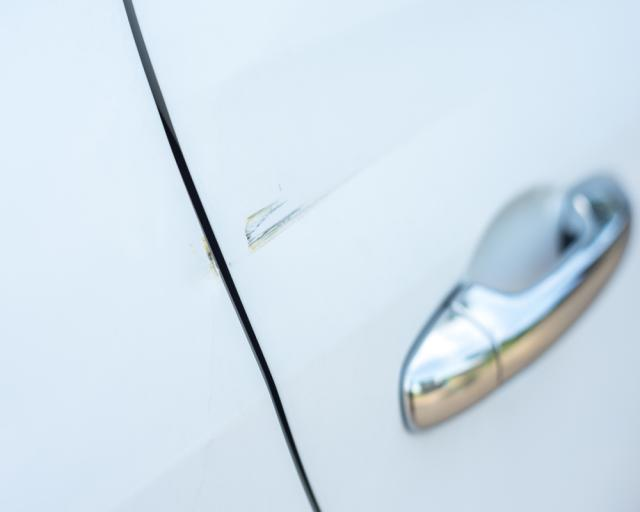scratch: (245, 162, 374, 255)
